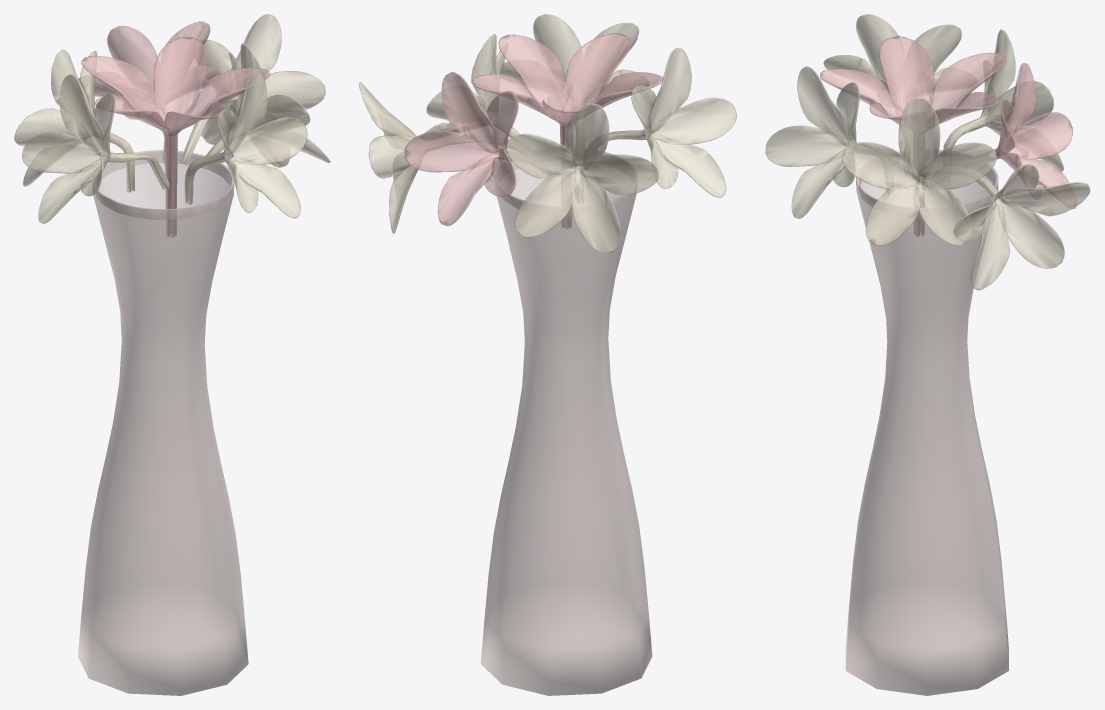
The model's file is flower_2.fbx.
3 views of the same model, side by side, from view 1: azimuth 30°, elevation 25°; view 2: azimuth 150°, elevation 25°; view 3: azimuth 270°, elevation 25° (orthographic).
Visible parts, largest first — view 1: nurbsToPoly1.001; view 2: nurbsToPoly1.001; view 3: nurbsToPoly1.001.
Part boxes in pixels (bbox=[...]): nurbsToPoly1.001: bbox=[14, 14, 330, 695]; nurbsToPoly1.001: bbox=[359, 14, 736, 695]; nurbsToPoly1.001: bbox=[765, 14, 1090, 695].
Size of the model in its own units: 152 by 278 by 135.
